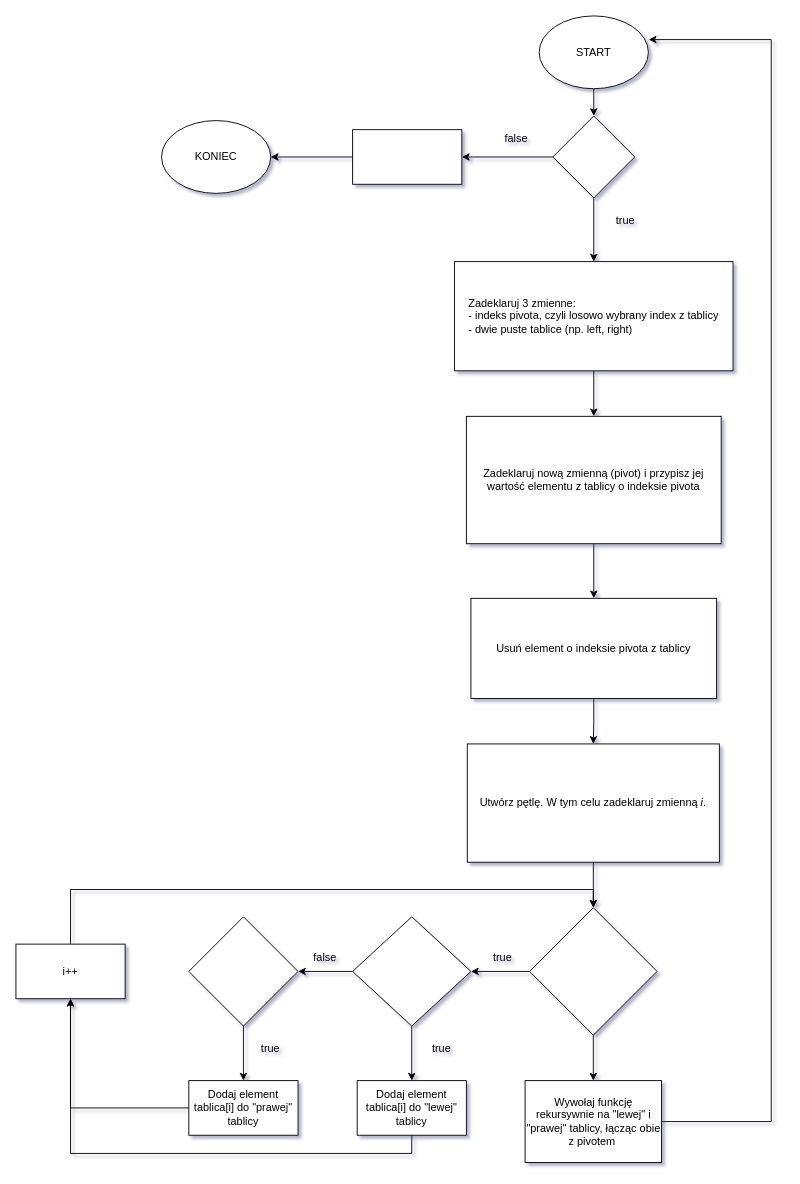
Image size: 800x1184. Some labels were removed from this diagram. Each missing label, with the centre of its shape:
"i < długość tablicy ?" goes at [593,971].
"Tablica > 1 element ?" goes at [593,156].
"tablica[i] <= pivot ?" goes at [411,971].
"tablica[i] > pivot ?" goes at [243,971].
"Zwróc tablicę" goes at [407,156].
